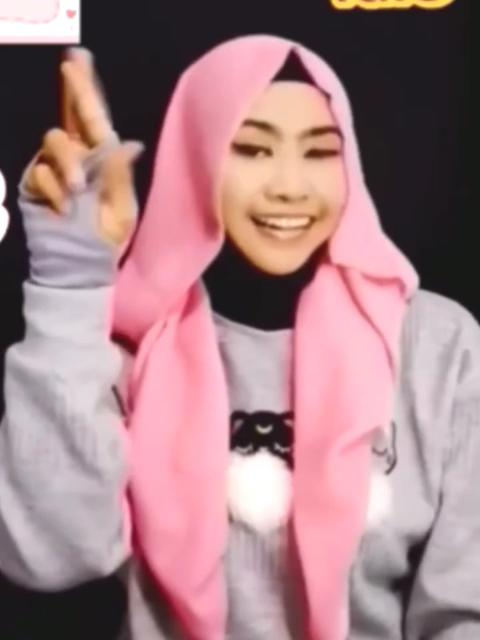R: (7, 40, 147, 282)
